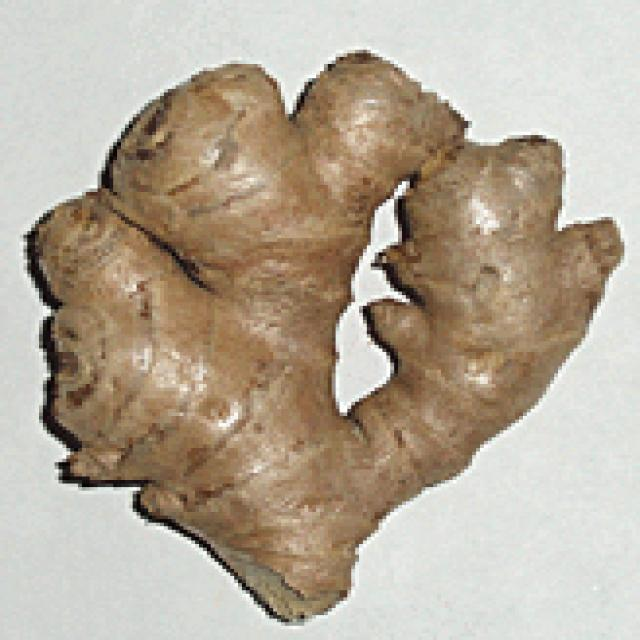ginger: (30, 49, 619, 618)
